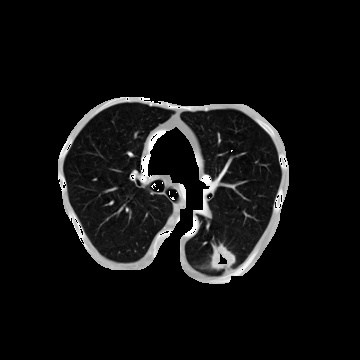PN: (210, 246, 234, 270)
